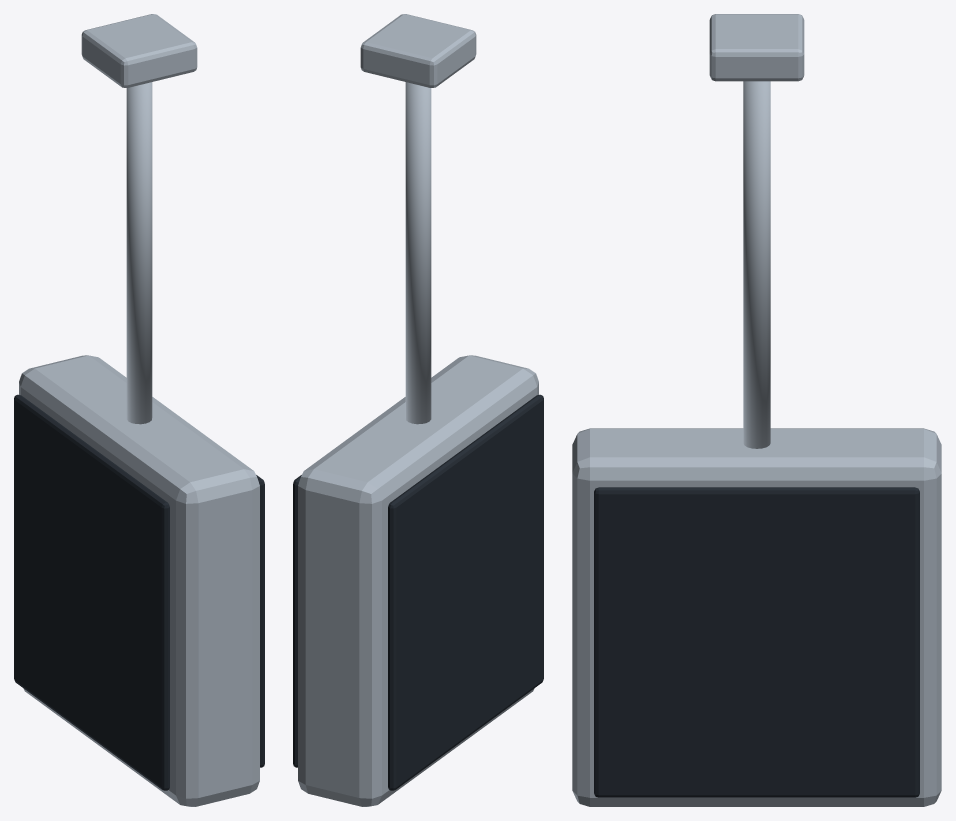
File: lane-head.glb
3 views of the same model, side by side, from view 1: azimuth 30°, elevation 25°; view 2: azimuth 150°, elevation 25°; view 3: azimuth 270°, elevation 25° (orthographic). The views are drawn at different scales.
Visible parts, largest first — view 1: Lane signal casing, Recessed LED panel; view 2: Lane signal casing, Recessed LED panel; view 3: Recessed LED panel, Lane signal casing.
Part boxes in pixels (x1,y1,x2,y2): Lane signal casing: [19, 14, 259, 806]; Recessed LED panel: [14, 394, 264, 790]; Lane signal casing: [298, 14, 538, 806]; Recessed LED panel: [293, 394, 543, 790]; Recessed LED panel: [594, 487, 919, 797]; Lane signal casing: [572, 14, 941, 806].
Size of the model in its own units: 0.325 by 2.13 by 0.94.
